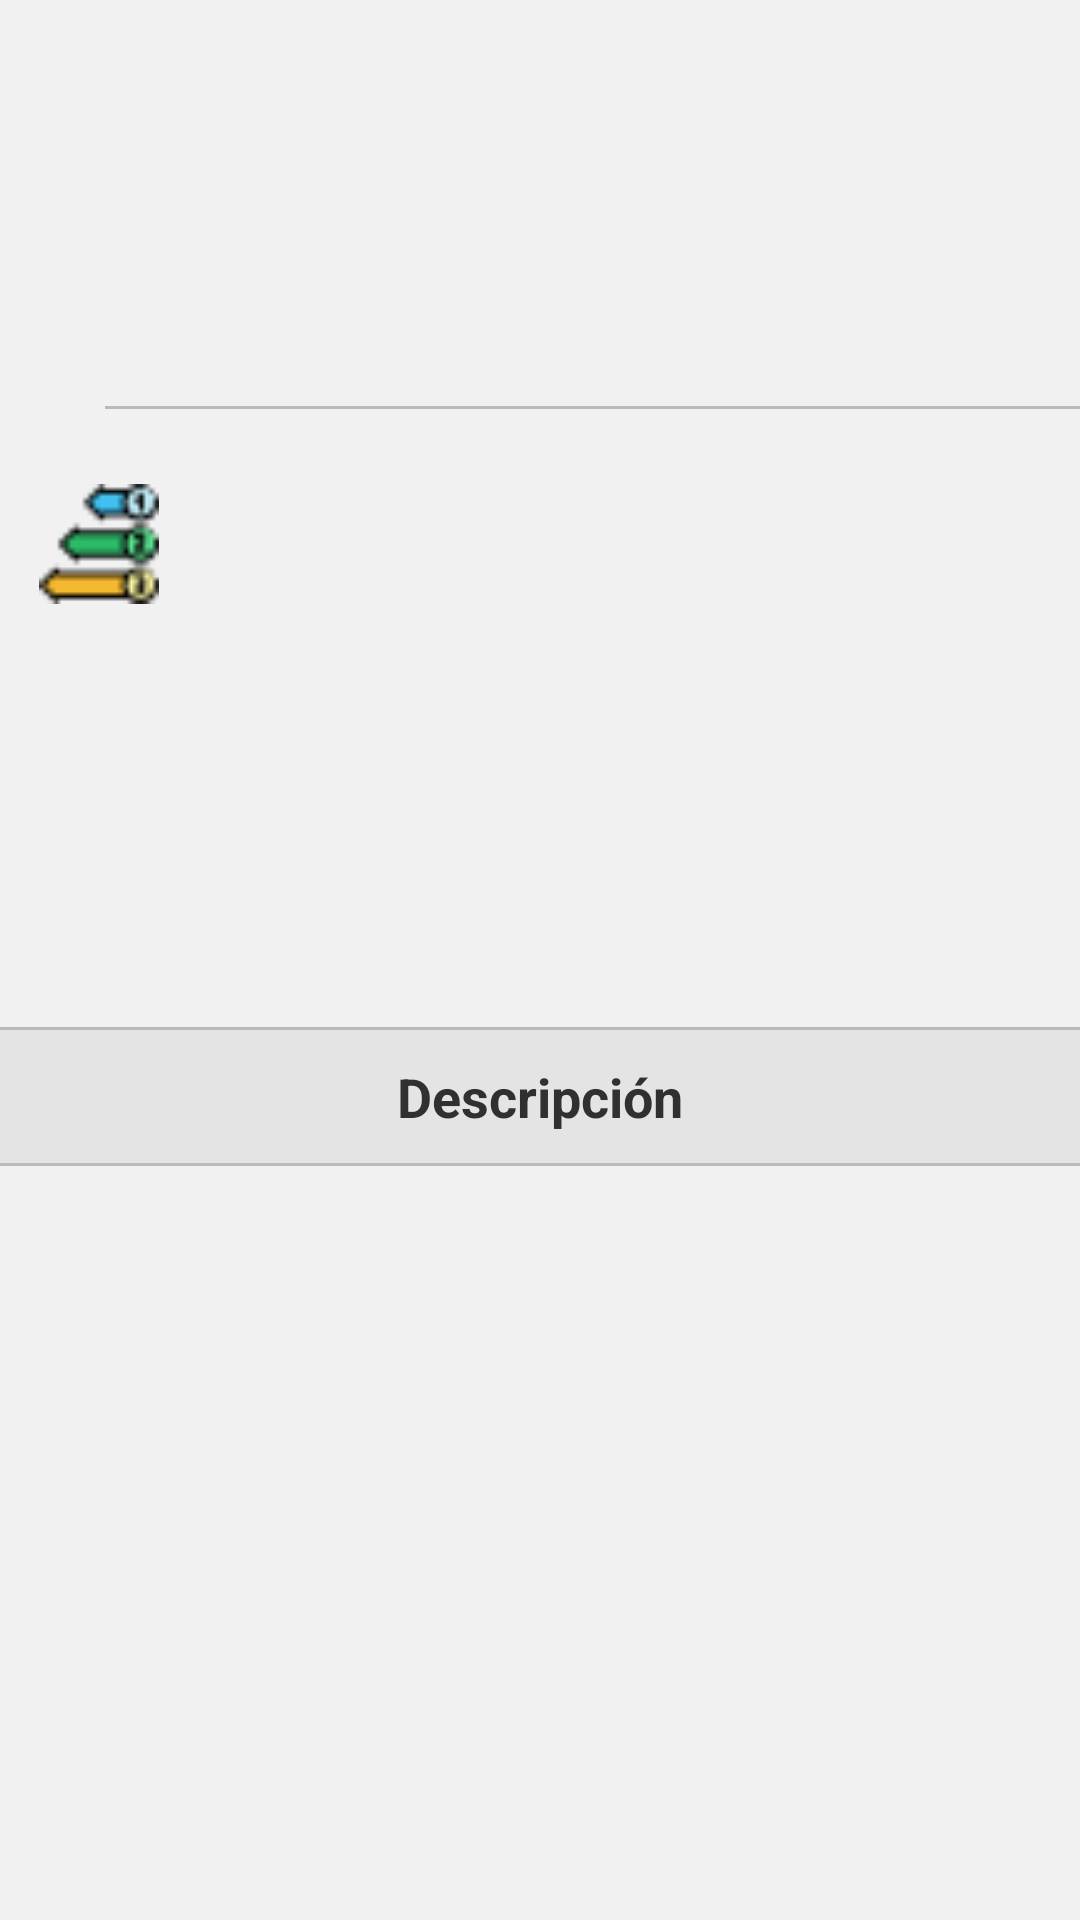

Where icons sit on this 1080 × 1920 app screen, as (x1, y1, x2, y2):
number: (39, 484, 159, 604)
